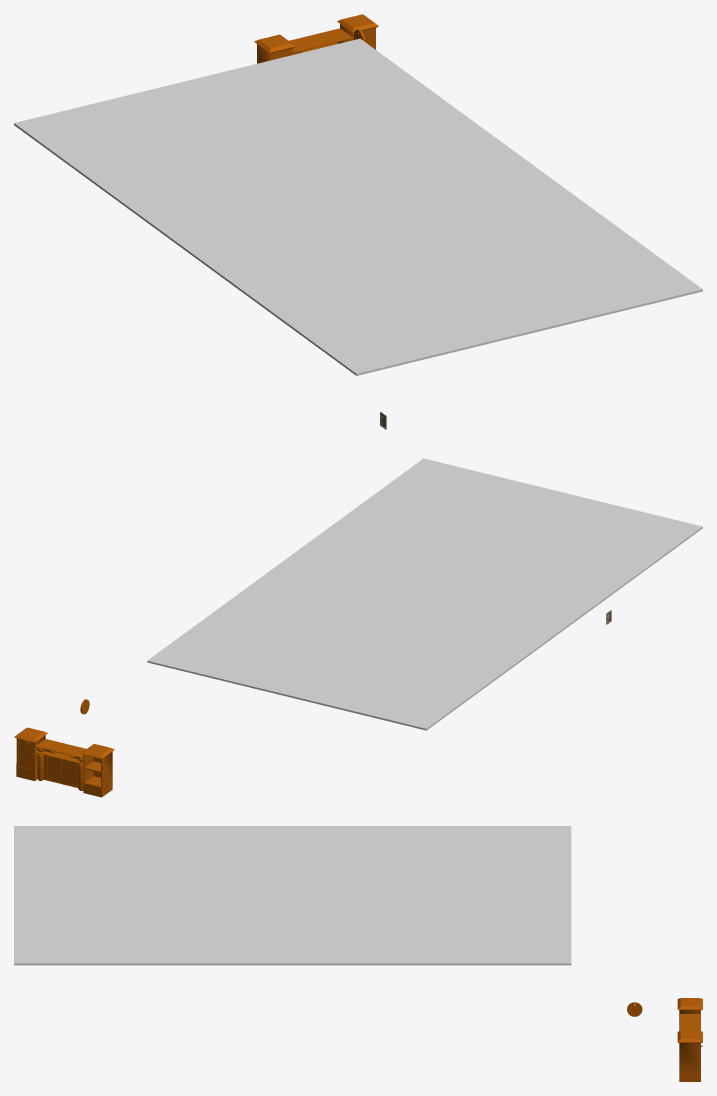
File: BorbPictureFrame.fbx
The picture shows the model from 3 angles, top to bottom: view 1: azimuth 30°, elevation 25°; view 2: azimuth 150°, elevation 25°; view 3: azimuth 270°, elevation 25°; orthographic projection. The views are drawn at different scales.
Parts seen in each view (by area): view 1: Ceiling, Cabinet; view 2: Ceiling, Cabinet; view 3: Ceiling, Cabinet.
Boxes of the visible parts, x1=… form: Ceiling: x1=14, y1=38, x2=702, y2=375; Cabinet: x1=254, y1=14, x2=378, y2=63; Ceiling: x1=147, y1=458, x2=702, y2=730; Cabinet: x1=14, y1=727, x2=114, y2=797; Ceiling: x1=14, y1=826, x2=571, y2=965; Cabinet: x1=677, y1=998, x2=702, y2=1081.
Bounding box in the file's own units: 10560 × 2472 × 17994.
